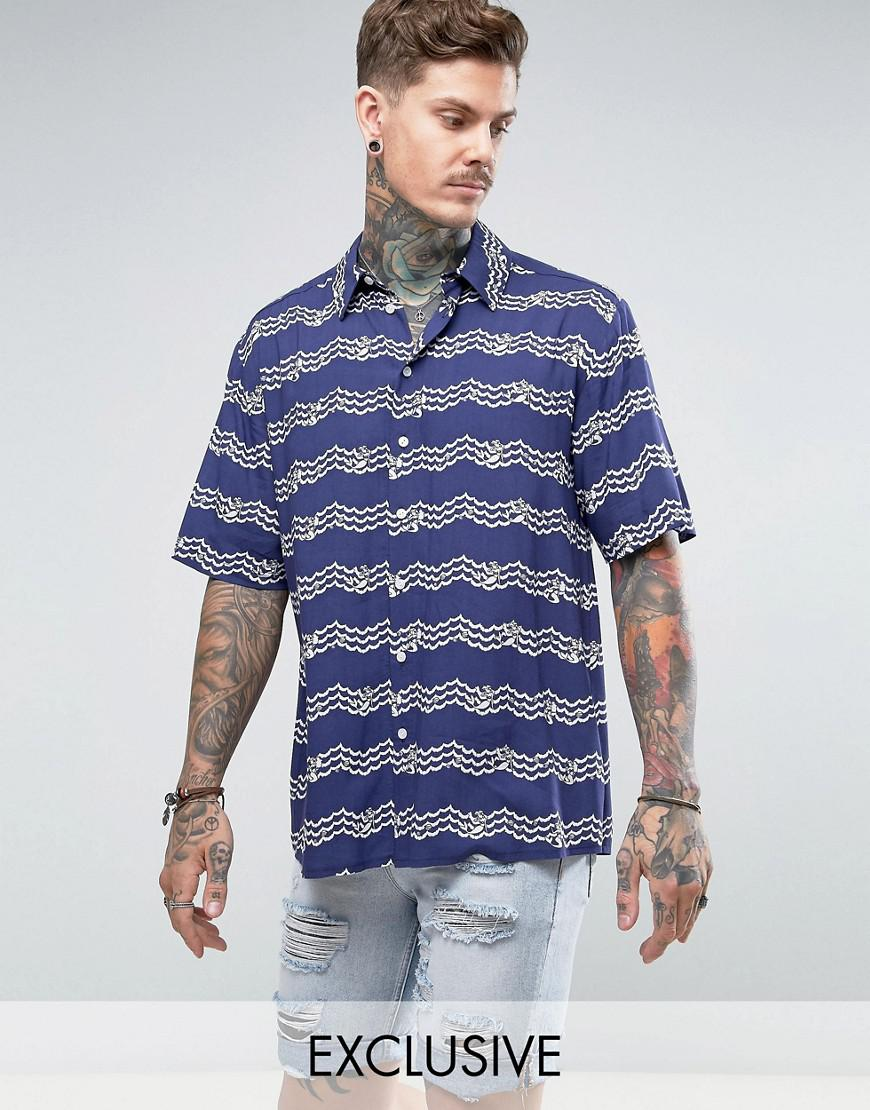teeshirt: (186, 203, 668, 878)
